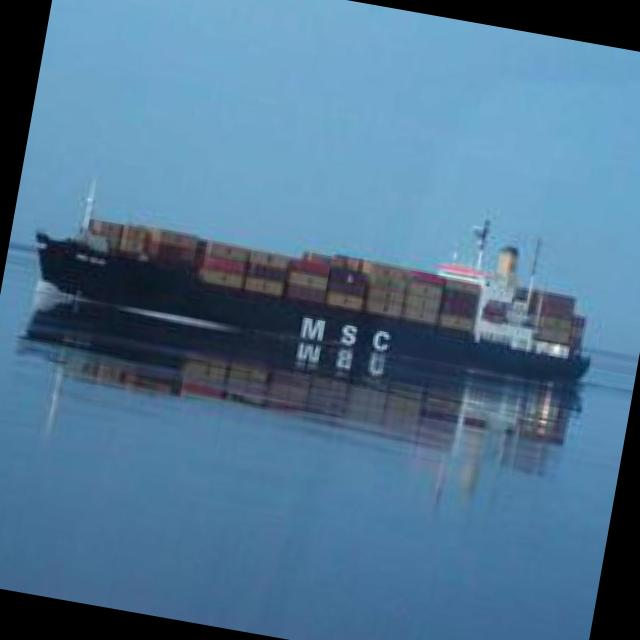boat: (8, 194, 612, 410)
